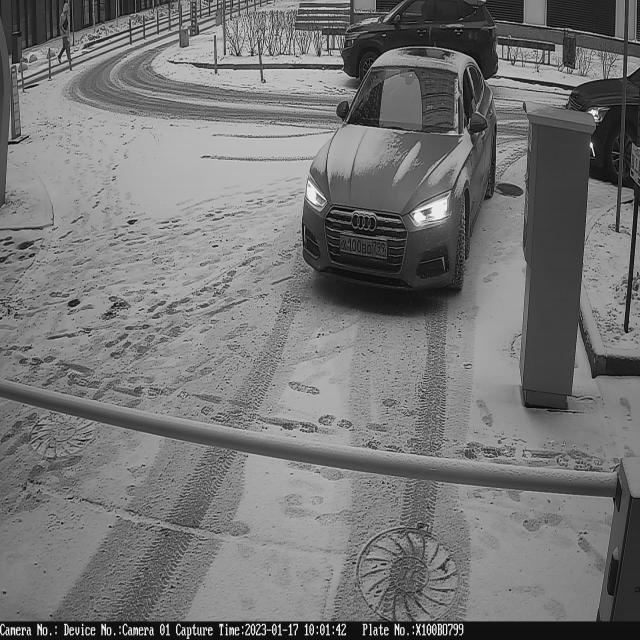car-plate-numbers: (336, 230, 394, 266)
